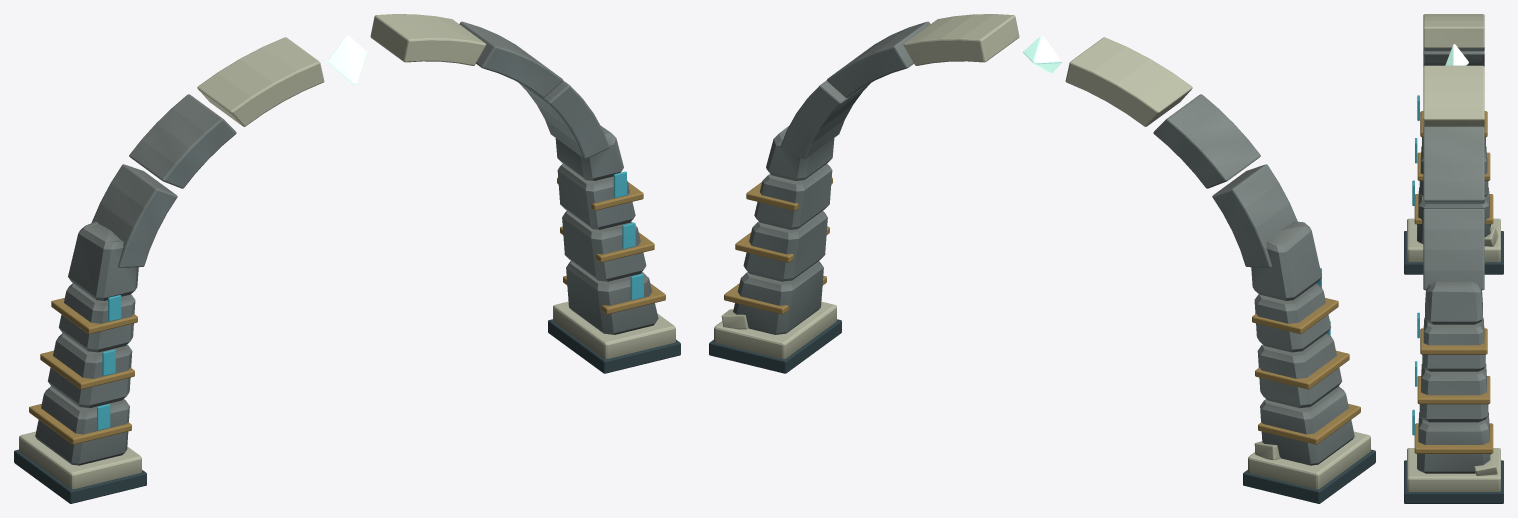
Rendered from skyreach-star-road-gate-v1.glb.
The picture shows the model from 3 angles, left to right: view 1: azimuth 30°, elevation 25°; view 2: azimuth 150°, elevation 25°; view 3: azimuth 270°, elevation 25°; orthographic projection. The views are drawn at different scales.
Visible parts, largest first — view 1: GB_GATE_Stone, GB_GATE_Fracture, GB_GATE_Bronze, GB_GATE_Recess, GB_GATE_Inlay, GB_GATE_Core; view 2: GB_GATE_Stone, GB_GATE_Fracture, GB_GATE_Bronze, GB_GATE_Recess, GB_GATE_Core; view 3: GB_GATE_Stone, GB_GATE_Fracture, GB_GATE_Bronze, GB_GATE_Recess, GB_GATE_Inlay, GB_GATE_Core.
Part boxes in pixels (<box>): GB_GATE_Stone: <box>35,21,658,465</box>; GB_GATE_Fracture: <box>19,14,675,489</box>; GB_GATE_Bronze: <box>29,177,665,444</box>; GB_GATE_Recess: <box>14,319,680,503</box>; GB_GATE_Inlay: <box>97,171,643,430</box>; GB_GATE_Core: <box>328,35,366,85</box>; GB_GATE_Stone: <box>733,21,1354,465</box>; GB_GATE_Fracture: <box>714,14,1370,489</box>; GB_GATE_Bronze: <box>724,177,1360,444</box>; GB_GATE_Recess: <box>709,319,1375,503</box>; GB_GATE_Core: <box>1023,35,1061,73</box>; GB_GATE_Stone: <box>1417,47,1490,473</box>; GB_GATE_Fracture: <box>1407,14,1500,491</box>; GB_GATE_Bronze: <box>1414,111,1493,453</box>; GB_GATE_Recess: <box>1404,231,1503,503</box>; GB_GATE_Inlay: <box>1412,95,1419,435</box>; GB_GATE_Core: <box>1445,44,1468,65</box>.
Bounding box in the file's own units: 8.7 × 5.09 × 1.4.
